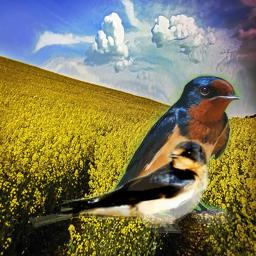Swallow: (91, 74, 241, 224), (29, 139, 211, 233)
